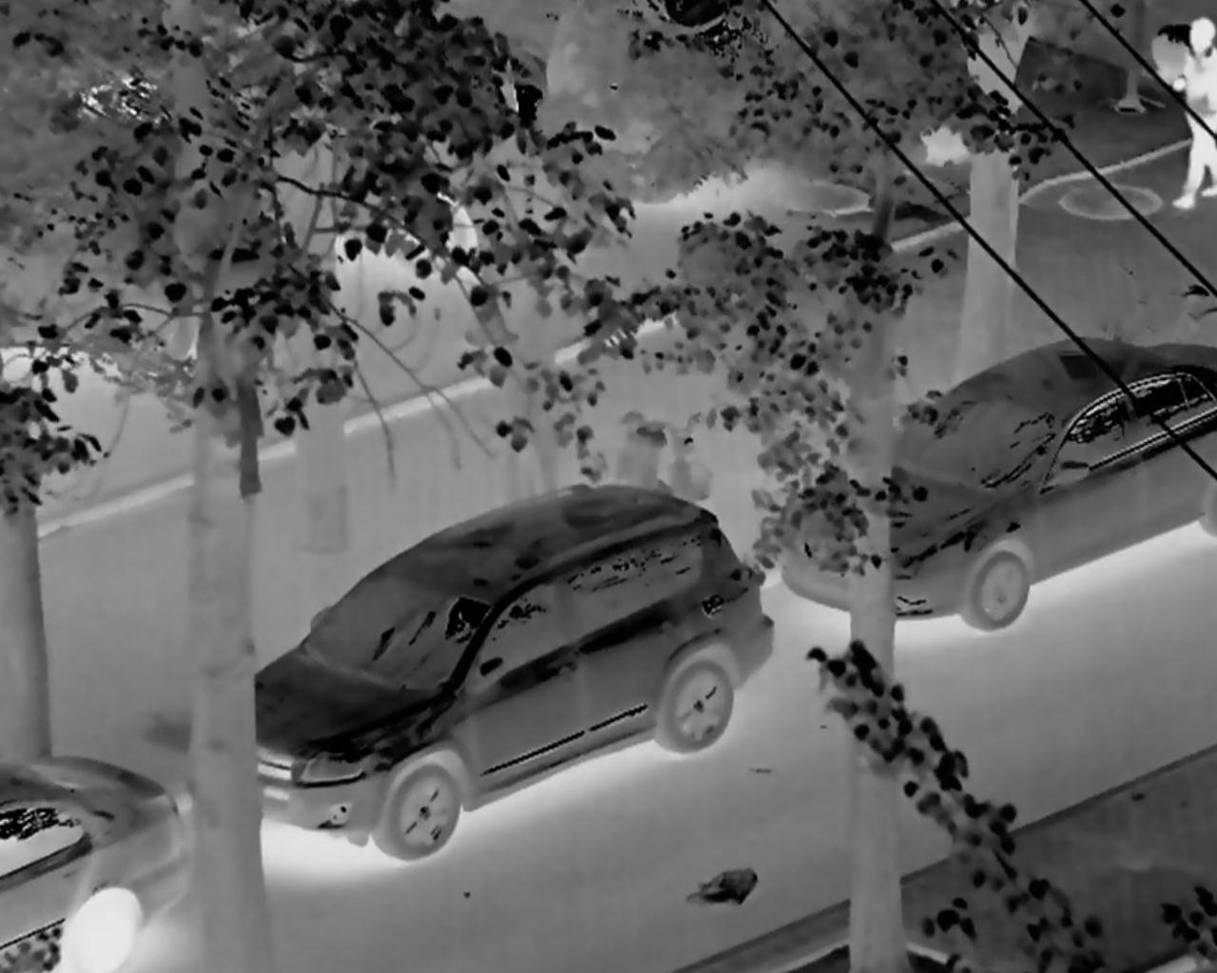person: (1164, 11, 1217, 228)
